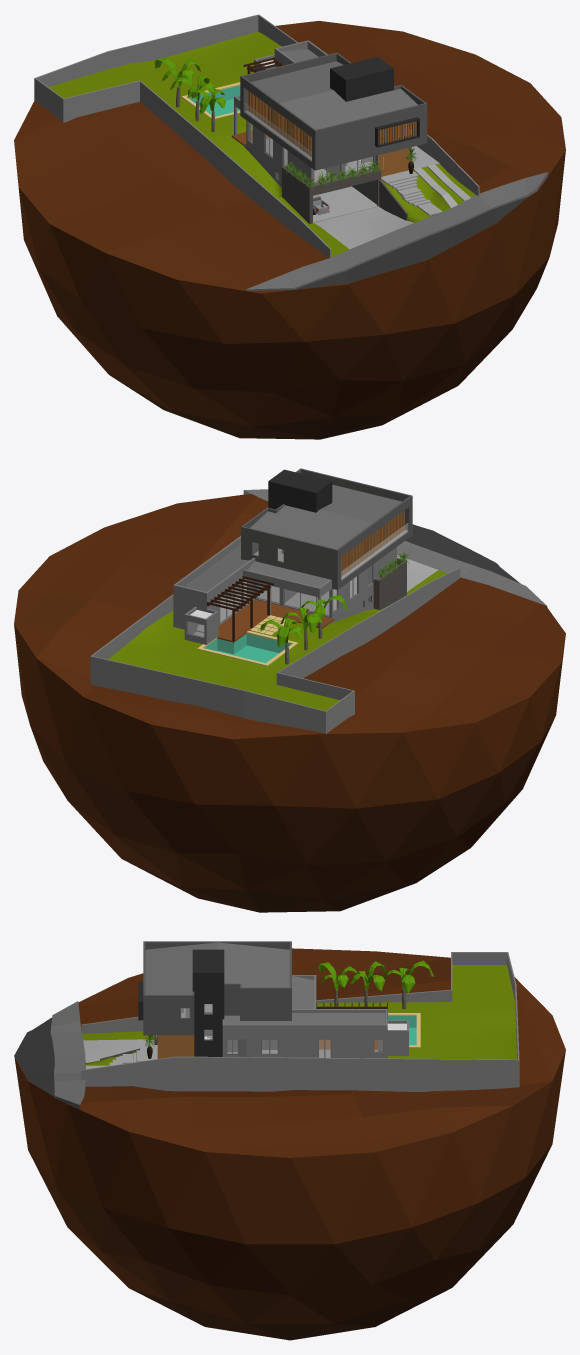
Rendered from Ralph-c.glb.
The picture shows the model from 3 angles, top to bottom: view 1: azimuth 30°, elevation 25°; view 2: azimuth 150°, elevation 25°; view 3: azimuth 270°, elevation 25°; orthographic projection.
Visible parts, largest first — view 1: base, Plane.001, terreno.modificado, terreno.modificado.001, telha, piso.superior.002, parede.superior, parede.terreo, parede.inferior.001, Cube, terreno.modificado.002, painel.entrada.004 (+11 smaller); view 2: base, Plane.001, terreno.modificado, parede.terreo, telha, piso.superior.002, terreno.modificado.001, parede.superior, Cube, piso.terreo.002, parede.piscina, painel.entrada.004 (+12 smaller); view 3: base, Plane.001, terreno.modificado, parede.terreo, telha, terreno.modificado.001, parede.superior, piso.superior.002, Cube, telha.002, terreno.modificado.002, painel.entrada.001 (+5 smaller).
Part boxes in pixels (x1,y1,x2,y2): base: (14, 21, 565, 439); Plane.001: (34, 14, 479, 258); terreno.modificado: (48, 31, 475, 257); terreno.modificado.001: (246, 172, 547, 290); telha: (251, 61, 417, 129); piso.superior.002: (240, 52, 427, 170); parede.superior: (268, 105, 427, 168); parede.terreo: (243, 40, 378, 185); parede.inferior.001: (282, 166, 381, 223); Cube: (330, 57, 393, 101); terreno.modificado.002: (314, 207, 413, 249); painel.entrada.004: (248, 91, 311, 156); base: (14, 494, 565, 912); Plane.001: (90, 568, 460, 734); terreno.modificado: (108, 570, 447, 710); parede.terreo: (173, 536, 396, 644); telha: (250, 485, 401, 549); piso.superior.002: (241, 468, 412, 589); terreno.modificado.001: (243, 489, 547, 607); parede.superior: (241, 508, 404, 579); Cube: (268, 469, 332, 512); piso.terreo.002: (217, 599, 334, 642); parede.piscina: (204, 633, 290, 663); painel.entrada.004: (341, 510, 404, 576); base: (14, 948, 565, 1340); Plane.001: (81, 952, 519, 1091); terreno.modificado: (81, 965, 517, 1065); parede.terreo: (194, 1009, 408, 1058); telha: (145, 942, 289, 994); terreno.modificado.001: (14, 1001, 85, 1109); parede.superior: (143, 993, 291, 1035); piso.superior.002: (143, 941, 291, 1004); Cube: (192, 949, 224, 998); telha.002: (224, 1013, 385, 1024); terreno.modificado.002: (83, 1039, 153, 1062); painel.entrada.001: (157, 1035, 194, 1058).
Bounding box in the file's own units: 57.06 × 42.08 × 57.11.
